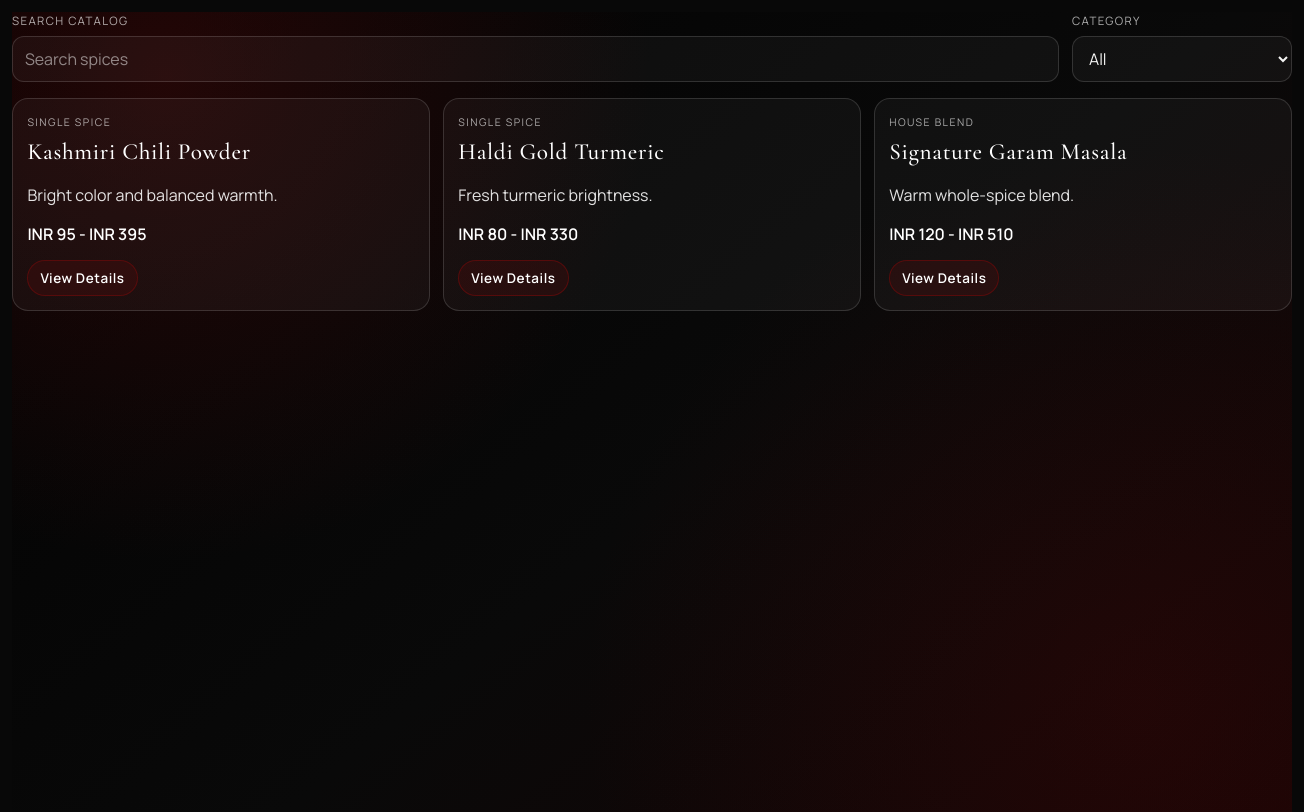
Test case: CatalogShop › renders products and filters by search
Expected: the heading "Kashmiri Chili Powder" is shown, [27,138,251,166]
Expected: the heading "Haldi Gold Turmeric" is shown, [458,138,664,166]
Type "turmeric" into the search field labelled "Search Catalog" at (536,59), box [12,36,1059,82]
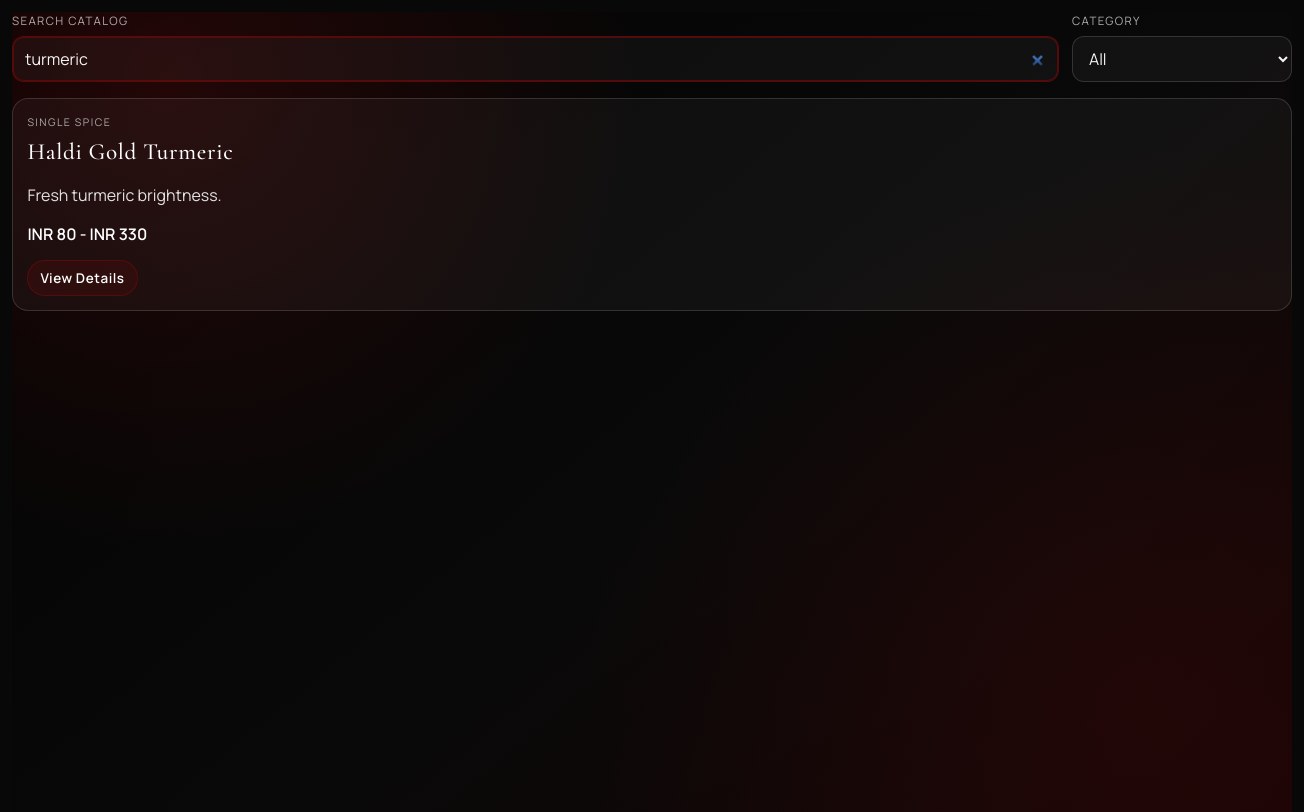
Expected: the heading "Haldi Gold Turmeric" is shown, [27,138,234,166]
Now the heading "Kashmiri Chili Powder" is gone
